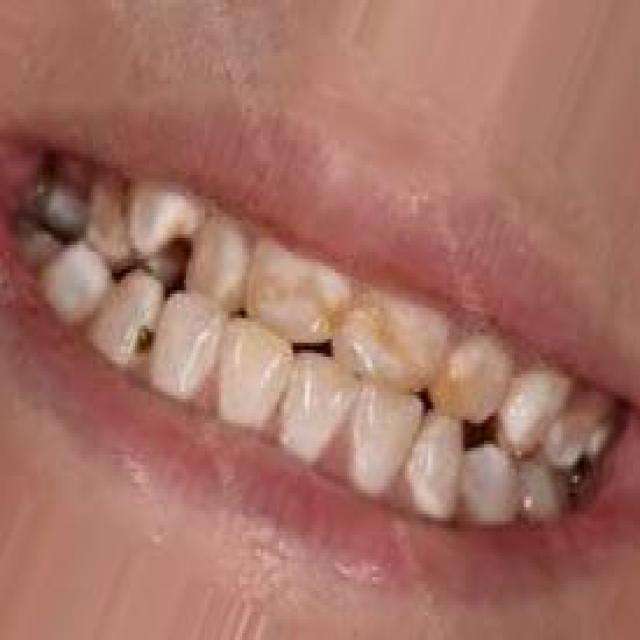caries: (128, 312, 162, 369)
